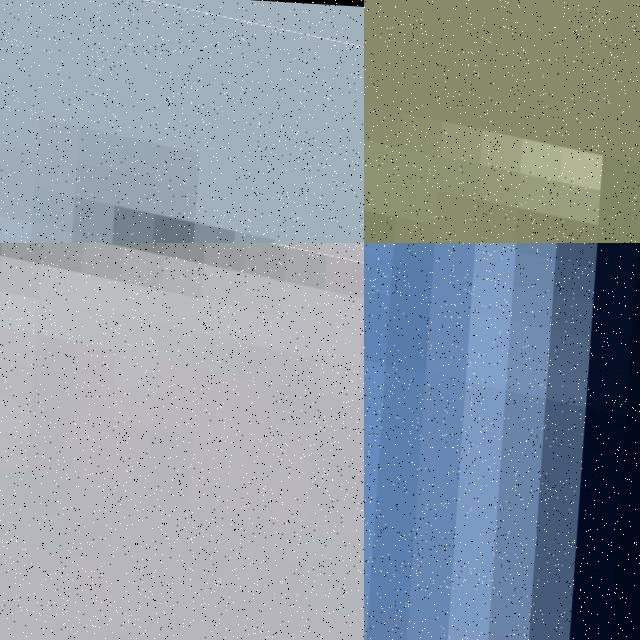0: (364, 243, 640, 640), (364, 0, 640, 243)
drone: (0, 243, 364, 640), (0, 0, 364, 243)
